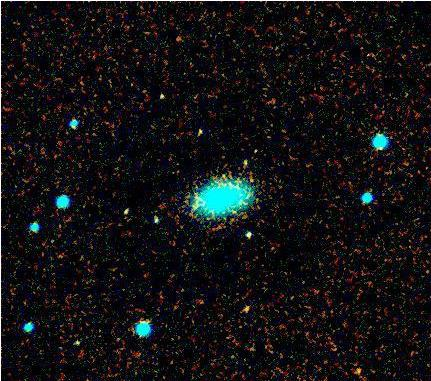star: (342, 355, 372, 381)
